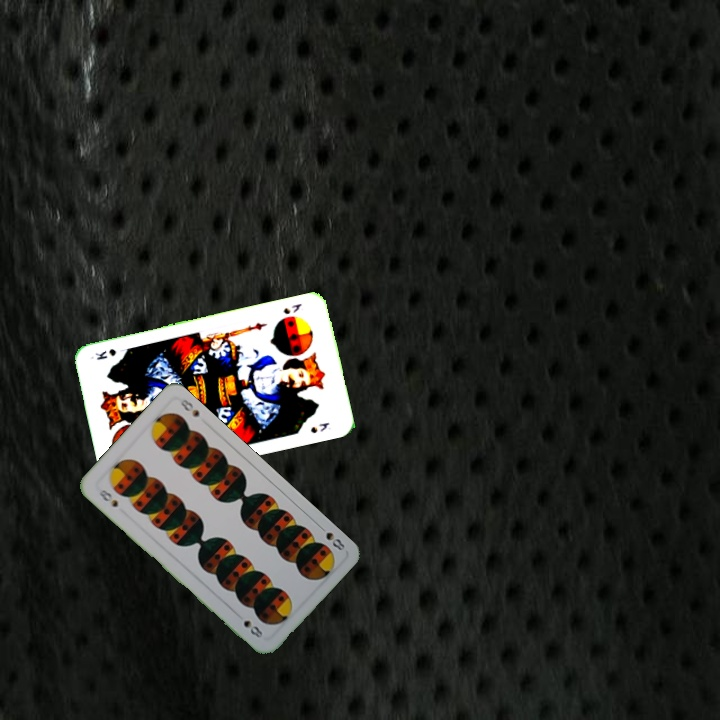S8: (314, 521, 349, 553), (95, 485, 121, 510)
SK: (279, 299, 304, 317)
